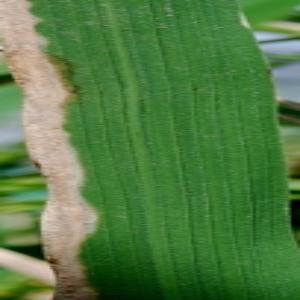Hawar Daun: (15, 54, 80, 162), (33, 156, 103, 244)
